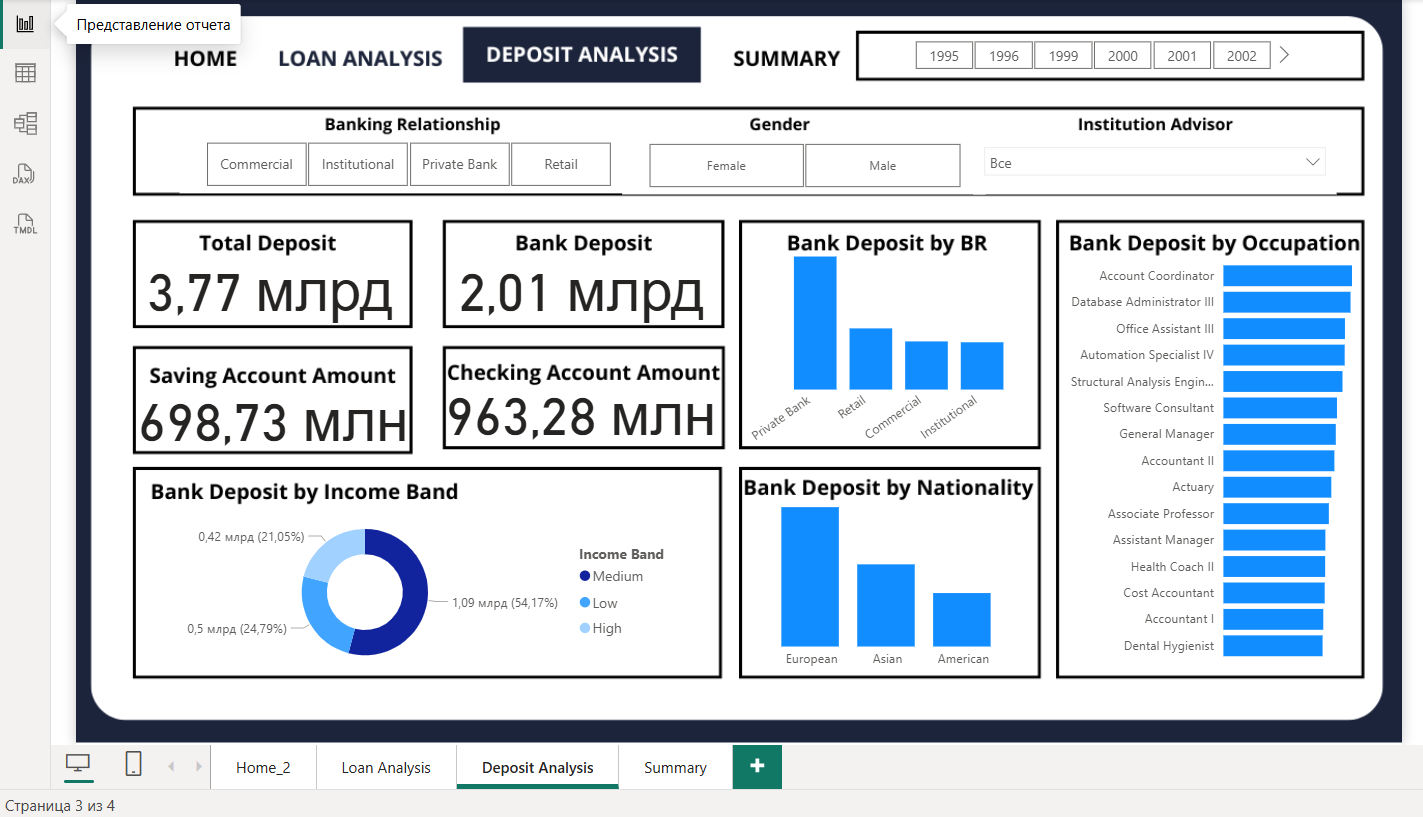

This screenshot's page, from the dashboard's own definition file:
{"tool":"powerbi","page":{"name":"Deposit Analysis","canvas":[1280,720],"ordinal":2},"visuals":[{"type":"slicer","fields":{"Values":["banking_case customer.Year of Joining"]},"box":[784.3,34.3,392.9,38.6],"z":0},{"type":"actionButton","box":[80,40,87.1,38.6],"z":1000},{"type":"actionButton","box":[167.1,35.7,204.3,38.6],"z":2000},{"type":"actionButton","box":[625.7,40,115.7,38.6],"z":3000},{"type":"card","fields":{"Values":["banking_case customer.Total Deposit"]},"box":[58.6,217.1,257.1,120],"z":4000},{"type":"card","fields":{"Values":["Sum(banking_case customer.Bank Deposits)"]},"box":[360,217.1,257.1,120],"z":5000},{"type":"card","fields":{"Values":["Sum(banking_case customer.Saving Accounts)"]},"box":[50,342.9,281.4,120],"z":6000},{"type":"card","fields":{"Values":["Sum(banking_case customer.Checking Accounts)"]},"box":[348.6,337.1,277.1,120],"z":7000},{"type":"donutChart","fields":{"Category":["banking_case customer.Income Band"],"Y":["Sum(banking_case customer.Bank Deposits)"]},"box":[67.1,490,522.9,165.7],"z":8000},{"type":"slicer","fields":{"Values":["banking_case customer.BRId"]},"box":[100,131.4,440,55.7],"z":9000},{"type":"slicer","fields":{"Values":["banking_case customer.GenderId"]},"box":[527.1,132.9,350,55.7],"z":10000},{"type":"slicer","fields":{"Values":["banking_case customer.IAId"]},"box":[865.7,132.9,350,55.7],"z":11000},{"type":"clusteredBarChart","fields":{"Category":["banking_case customer.Occupation"],"Y":["Sum(banking_case customer.Bank Loans)"]},"box":[938.6,233.5,317,415.9],"z":12000},{"type":"clusteredColumnChart","fields":{"Category":["banking_case customer.BRId"],"Y":["Sum(banking_case customer.Bank Deposits)"]},"box":[640.2,224.2,283,225.8],"z":13000},{"type":"clusteredColumnChart","fields":{"Category":["banking_case customer.Nationality"],"Y":["Sum(banking_case customer.Bank Deposits)"]},"box":[646.3,457.7,273.7,197.9],"z":14000}]}

Visuals, with their boxes on the page's 1280x720 design canvas (x1, y1, x2, y2). These are canvas units, not pixel positions in the 1423x817 screenshot, which may show the page scaled, cropped or inside an application window:
slicer - banking_case customer.Year of Joining: {"left": 784, "top": 34, "right": 1177, "bottom": 73}
actionButton: {"left": 80, "top": 40, "right": 167, "bottom": 79}
actionButton: {"left": 167, "top": 36, "right": 371, "bottom": 74}
actionButton: {"left": 626, "top": 40, "right": 741, "bottom": 79}
card - banking_case customer.Total Deposit: {"left": 59, "top": 217, "right": 316, "bottom": 337}
card - Sum(banking_case customer.Bank Deposits): {"left": 360, "top": 217, "right": 617, "bottom": 337}
card - Sum(banking_case customer.Saving Accounts): {"left": 50, "top": 343, "right": 331, "bottom": 463}
card - Sum(banking_case customer.Checking Accounts): {"left": 349, "top": 337, "right": 626, "bottom": 457}
donutChart - banking_case customer.Income Band x Sum(banking_case customer.Bank Deposits): {"left": 67, "top": 490, "right": 590, "bottom": 656}
slicer - banking_case customer.BRId: {"left": 100, "top": 131, "right": 540, "bottom": 187}
slicer - banking_case customer.GenderId: {"left": 527, "top": 133, "right": 877, "bottom": 189}
slicer - banking_case customer.IAId: {"left": 866, "top": 133, "right": 1216, "bottom": 189}
clusteredBarChart - banking_case customer.Occupation x Sum(banking_case customer.Bank Loans): {"left": 939, "top": 234, "right": 1256, "bottom": 649}
clusteredColumnChart - banking_case customer.BRId x Sum(banking_case customer.Bank Deposits): {"left": 640, "top": 224, "right": 923, "bottom": 450}
clusteredColumnChart - banking_case customer.Nationality x Sum(banking_case customer.Bank Deposits): {"left": 646, "top": 458, "right": 920, "bottom": 656}
